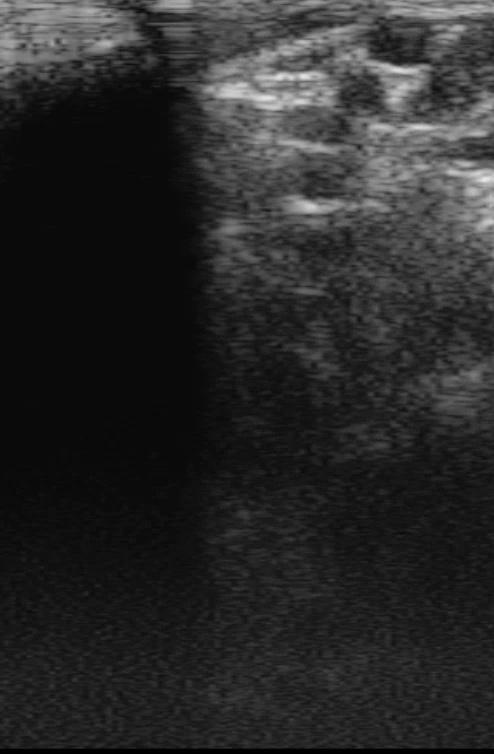veins_detect: (361, 13, 440, 70)
veins_seg: (367, 15, 437, 70)
